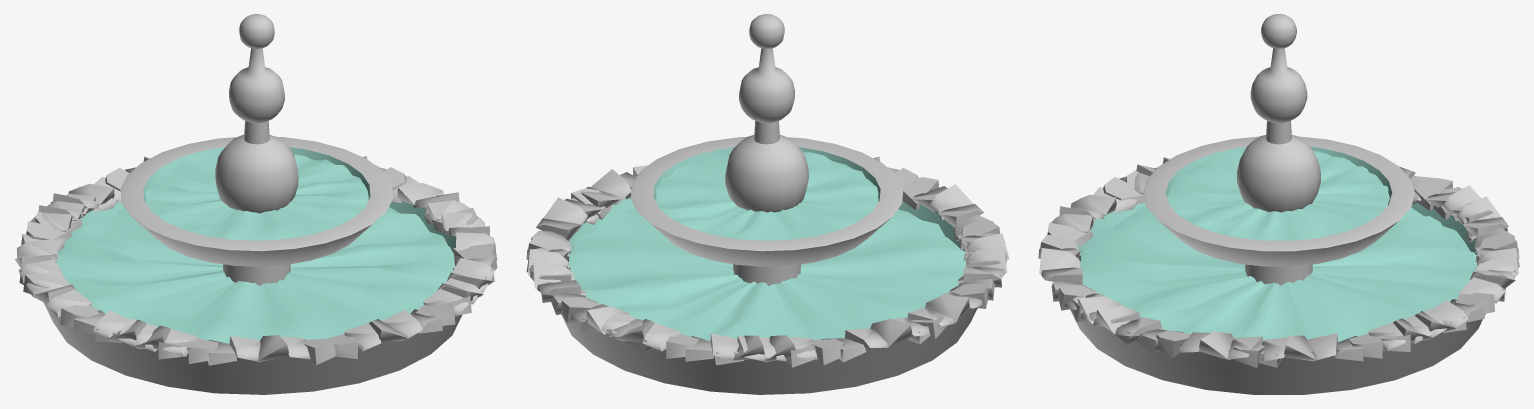
The model's file is Ornamental-Pool.fbx.
The picture shows the model from 3 angles, left to right: view 1: azimuth 30°, elevation 25°; view 2: azimuth 150°, elevation 25°; view 3: azimuth 270°, elevation 25°; orthographic projection.
Visible parts, largest first — view 1: Ornamental-Pool; view 2: Ornamental-Pool; view 3: Ornamental-Pool.
Boxes of the visible parts, left/top/right/bottom form: Ornamental-Pool: left=14, top=14, right=497, bottom=394; Ornamental-Pool: left=526, top=14, right=1009, bottom=394; Ornamental-Pool: left=1038, top=14, right=1519, bottom=394.
Size of the model in its own units: 4.59 by 3.07 by 4.59.
